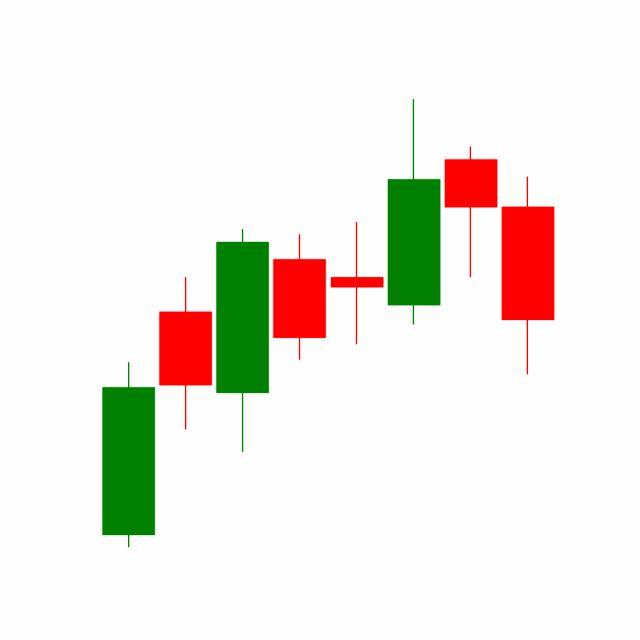Hikkake Pattern: (270, 99, 555, 380)
